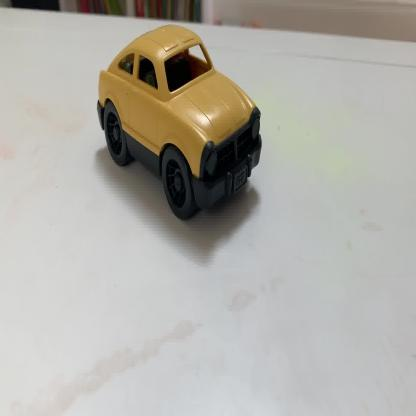yellow mini cooper: (96, 23, 262, 224)
